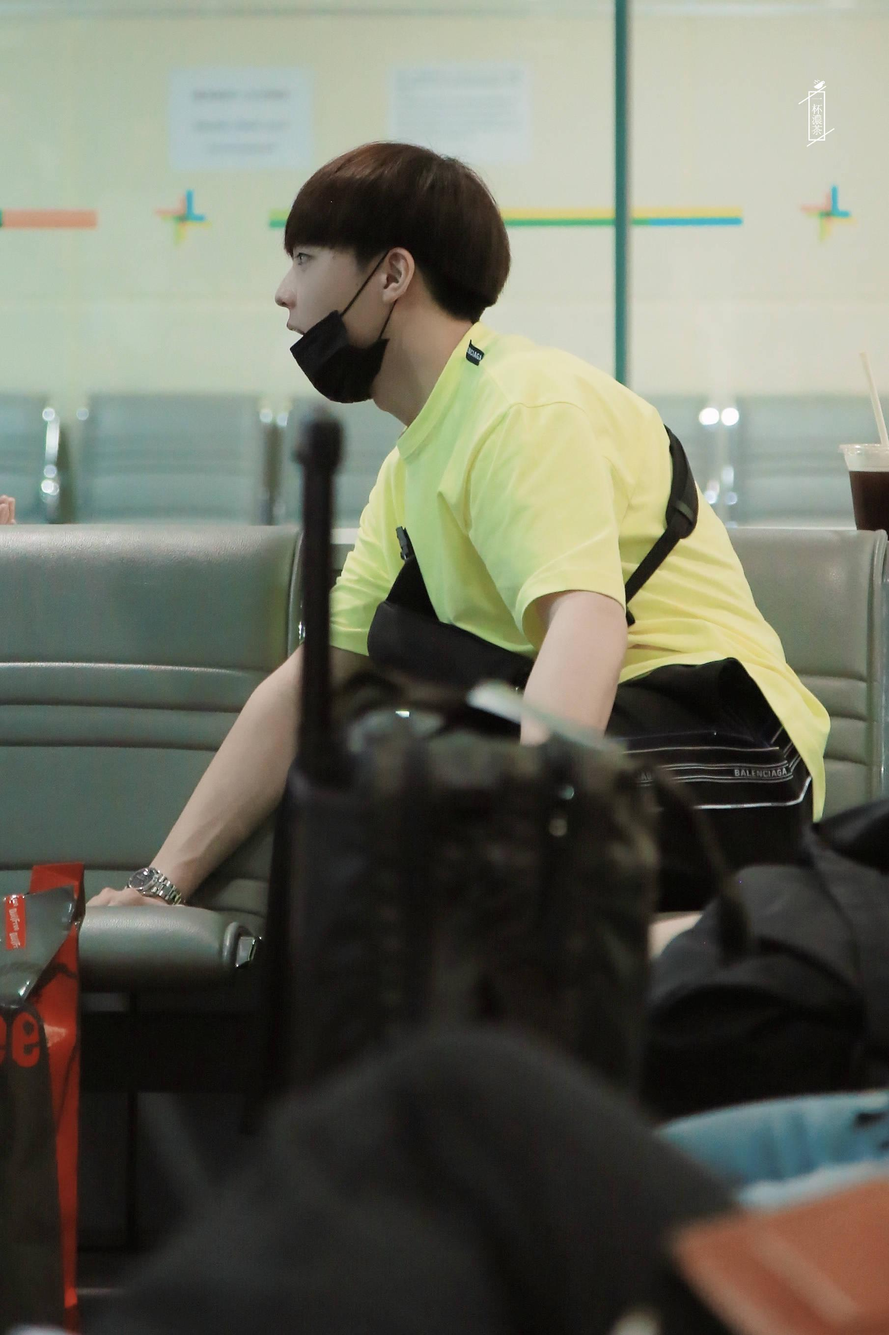WRONG: (276, 215, 370, 402)
